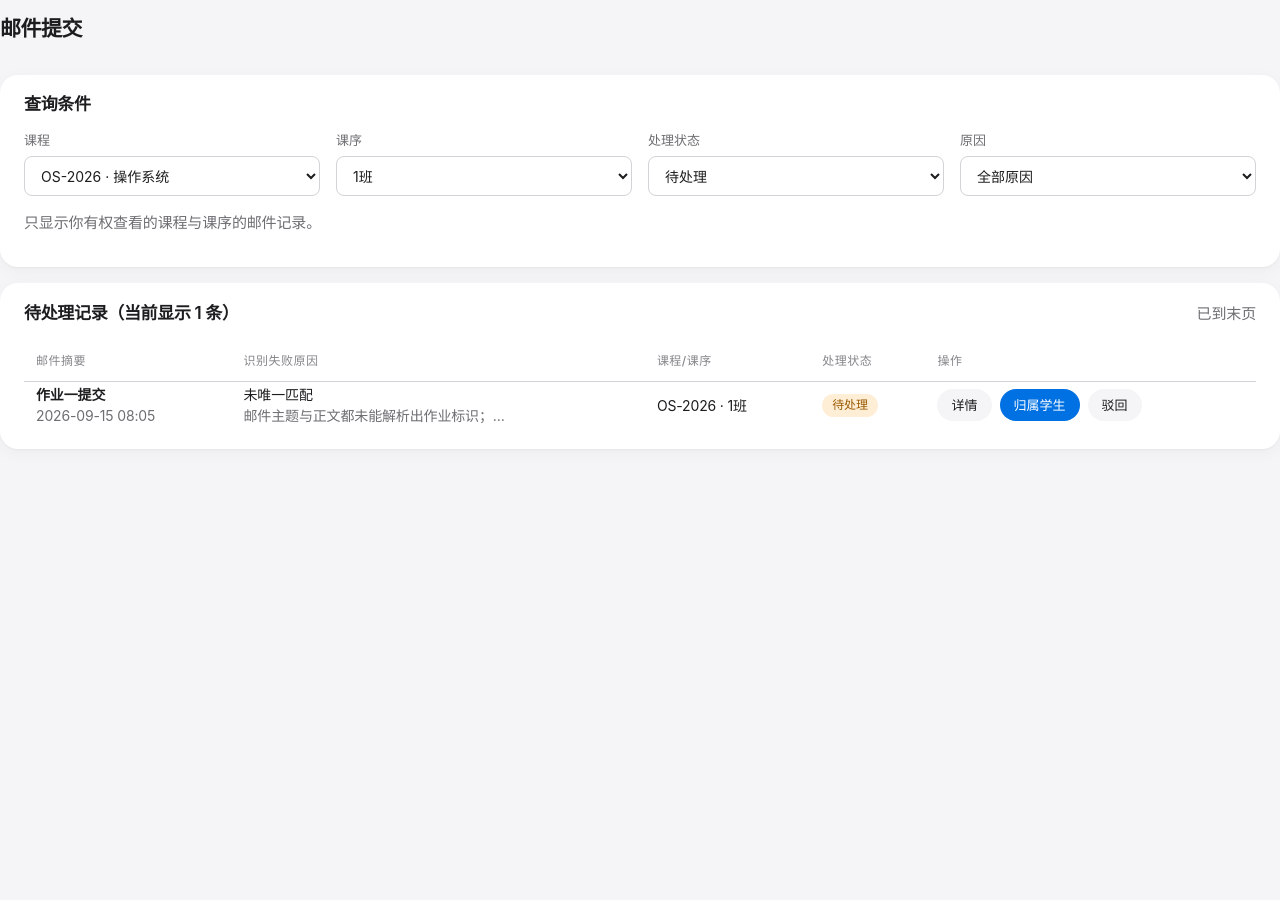
Scenario: P13-A 邮件提交标签 › 409 冲突：保留抽屉并提示刷新，不显示成功
Click the button "归属学生" at (1040, 405), box [1000,389,1080,421]
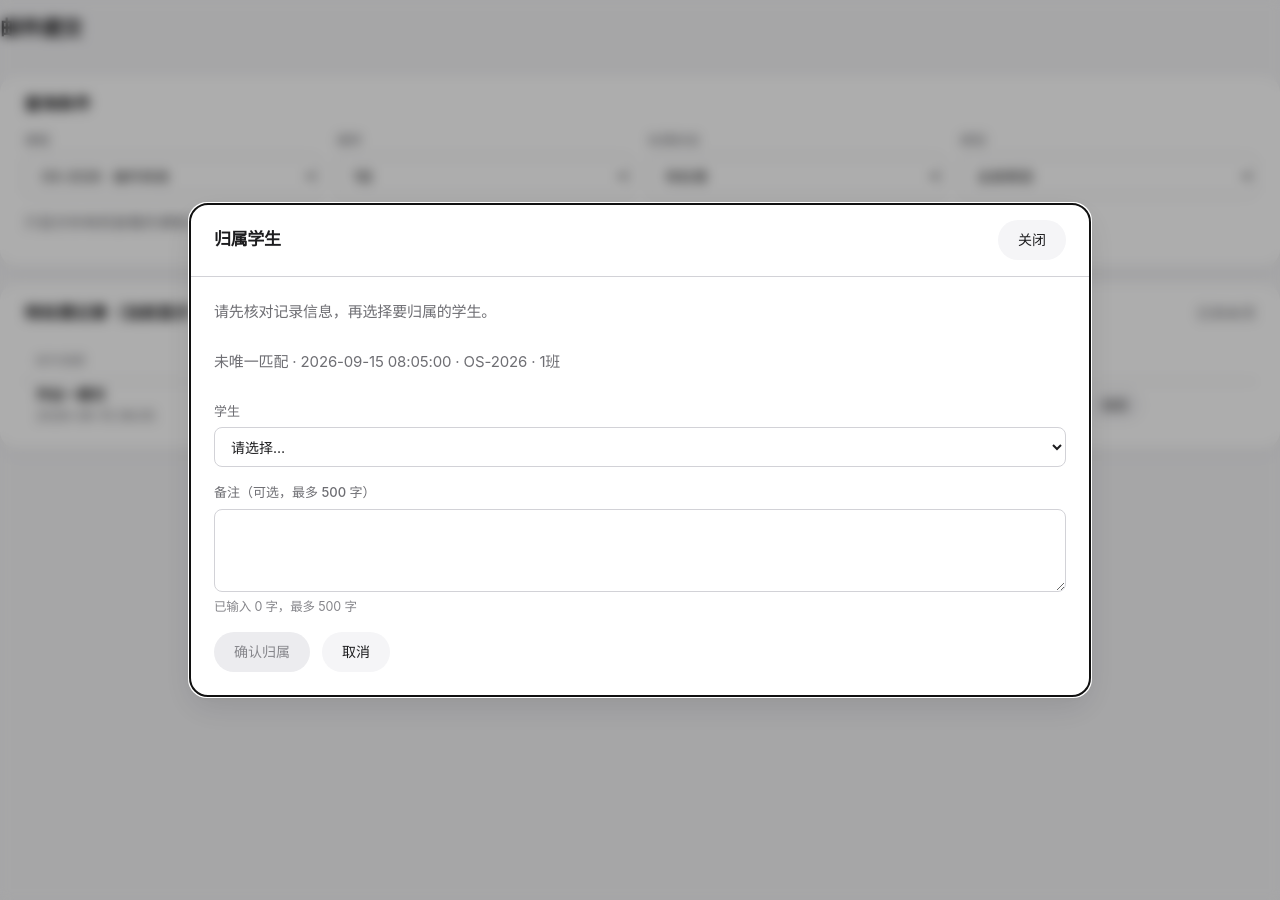
Select "张三 · 20260001" in the dropdown with test id "review-resolve-student" at (640, 447), box [214,427,1066,467]
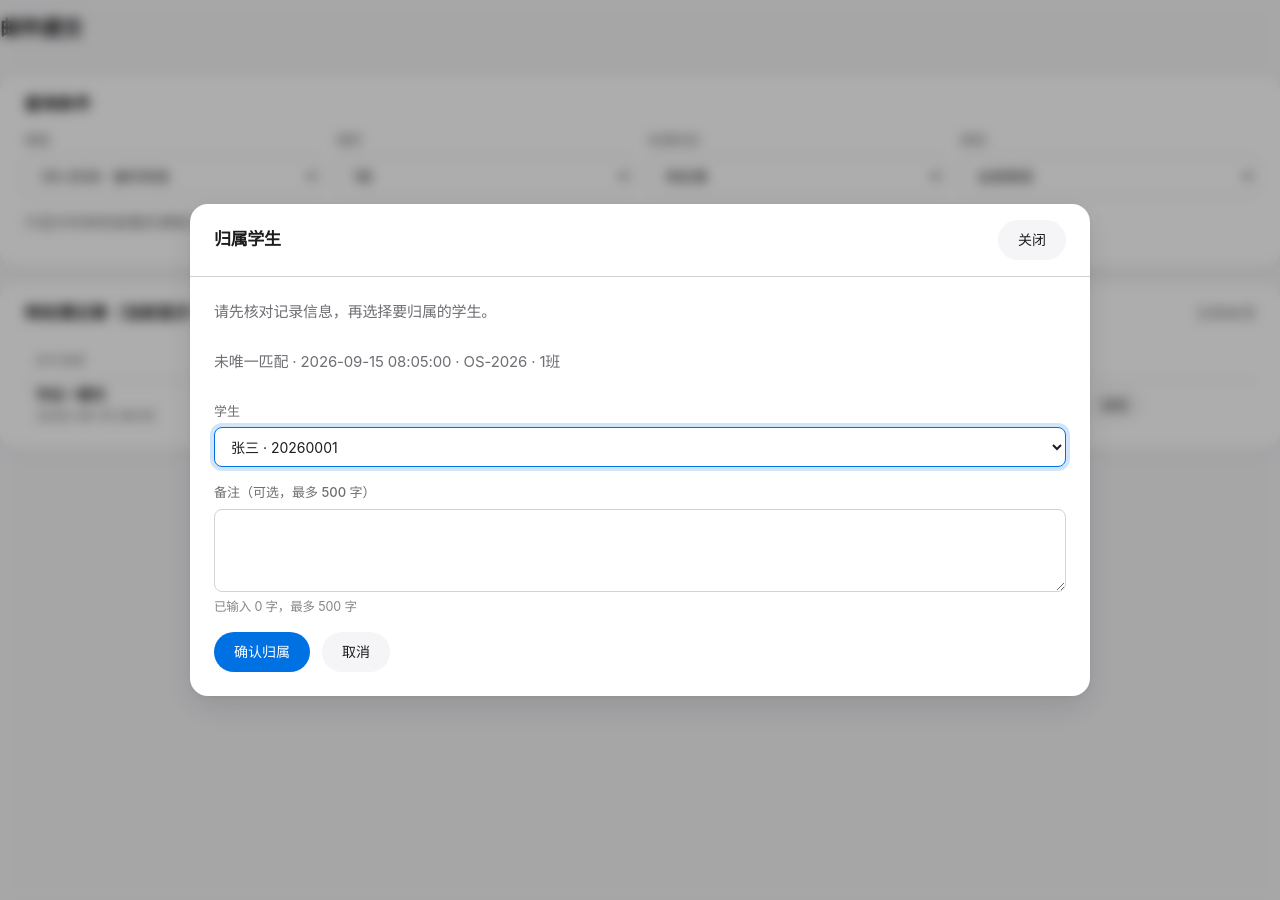
Click the button with test id "review-resolve-continue" at (262, 652), box [214,632,310,672]
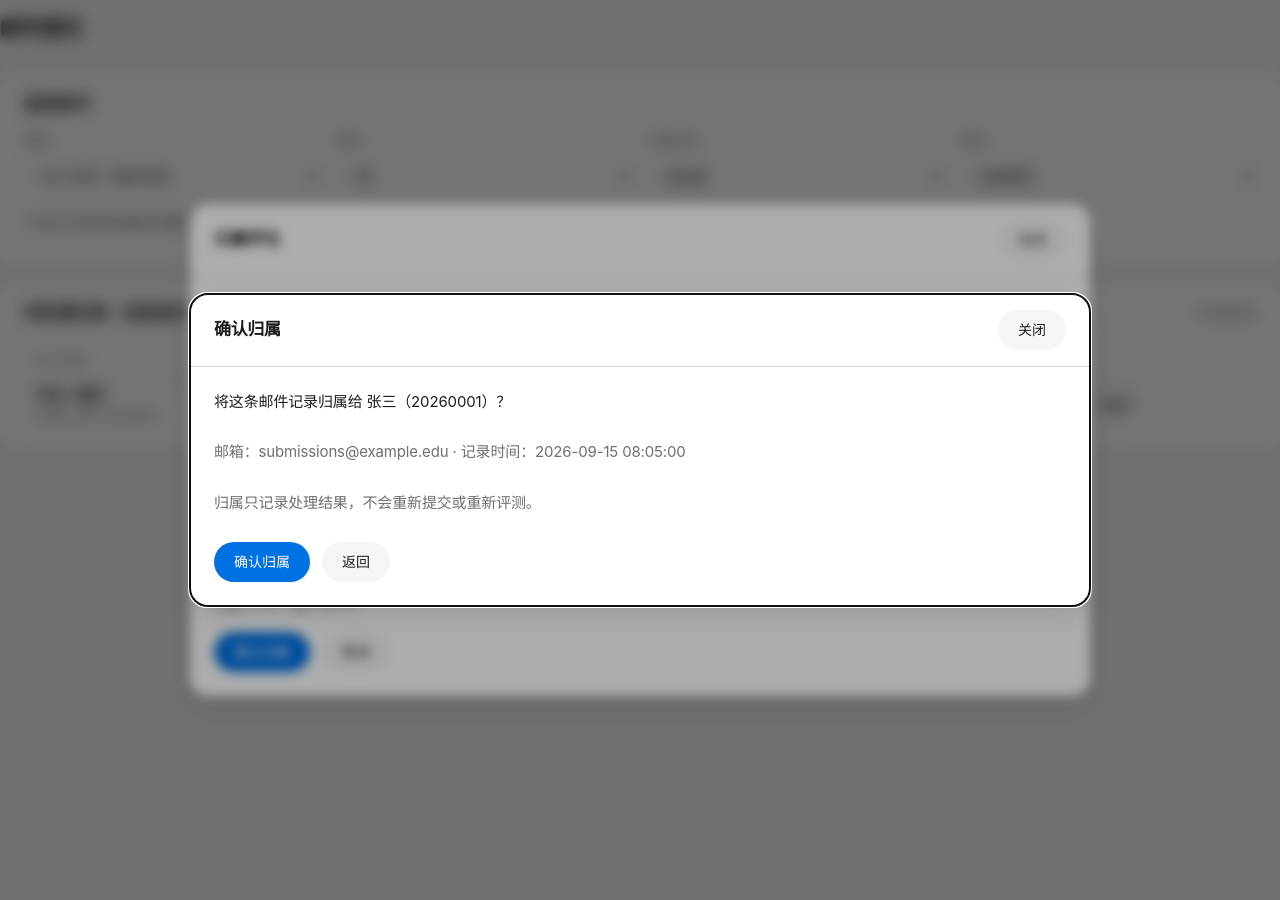
Click the button with test id "review-mail-confirm-submit" at (262, 562), box [214,542,310,582]
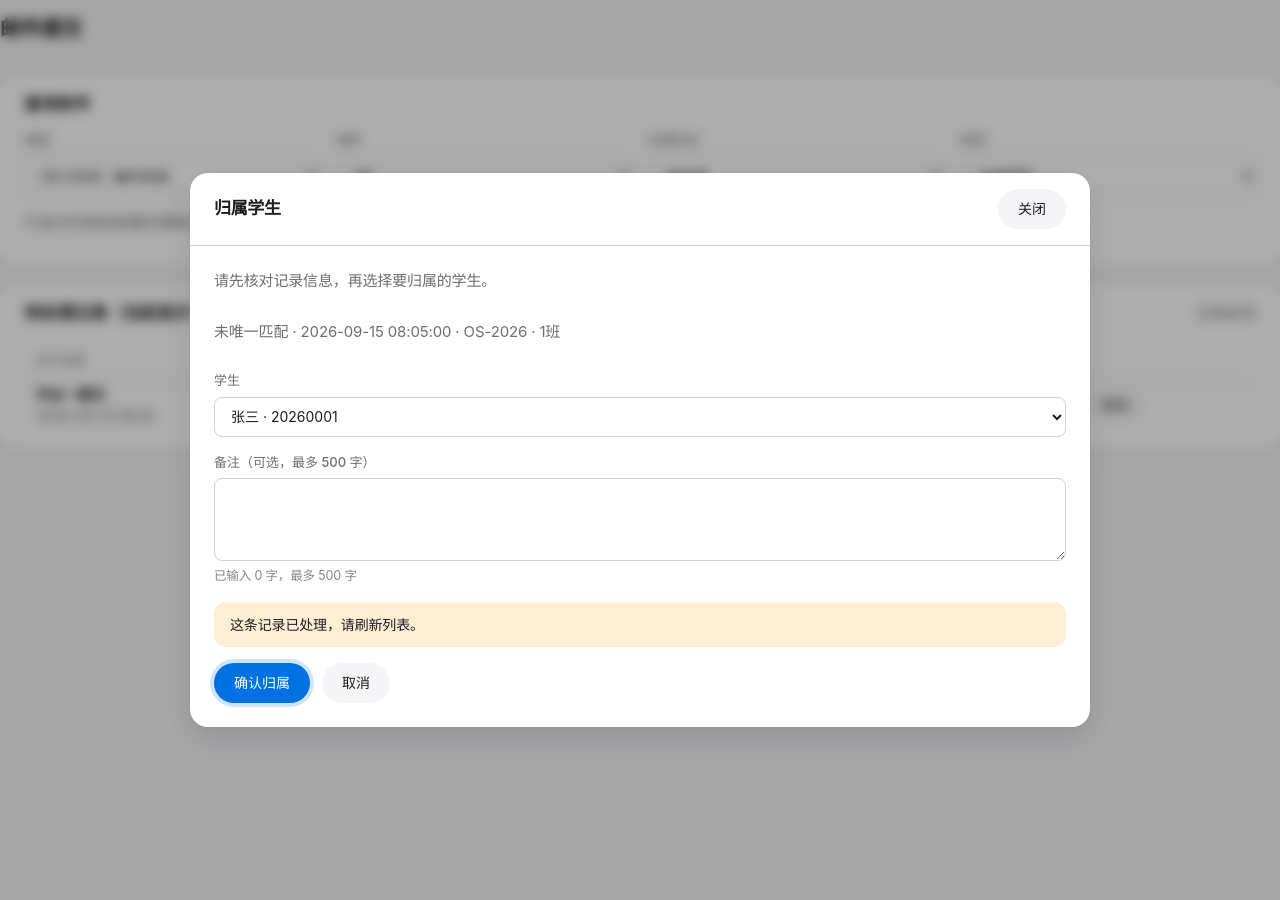
Expected: the text with test id "review-resolve-conflict" reads "这条记录已处理，请刷新列表。", [230,616,424,633]
